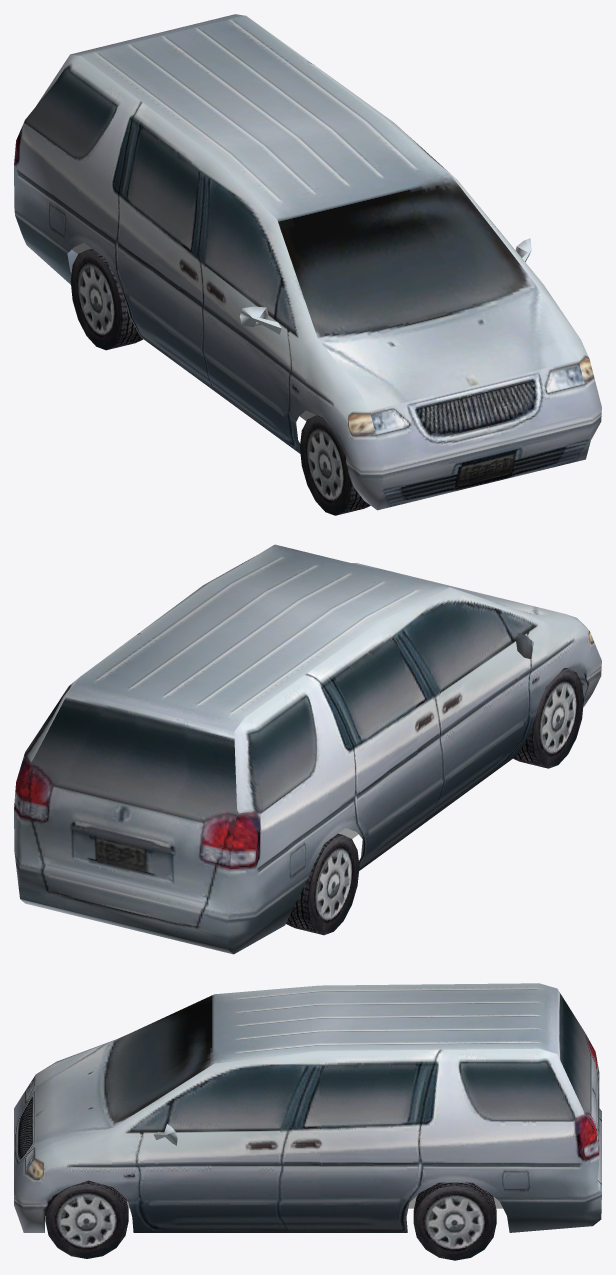
The model's file is van_01.fbx.
3 renders of one model, top to bottom at view 1: azimuth 30°, elevation 25°; view 2: azimuth 150°, elevation 25°; view 3: azimuth 270°, elevation 25°, orthographic. The views are drawn at different scales.
Visible parts, largest first — view 1: mesh_4, mesh_1, mesh_0; view 2: mesh_4, mesh_1, mesh_0; view 3: mesh_4, mesh_3, mesh_2.
Boxes of the visible parts, x1,y1,x2,y2 form: mesh_4: (14, 14, 601, 510); mesh_1: (70, 249, 143, 350); mesh_0: (300, 415, 370, 515); mesh_4: (14, 544, 601, 954); mesh_1: (286, 833, 359, 935); mesh_0: (513, 668, 583, 768); mesh_4: (14, 983, 601, 1232); mesh_3: (413, 1182, 496, 1260); mesh_2: (45, 1180, 128, 1258).
Size of the model in its own units: 224 by 179 by 483.
